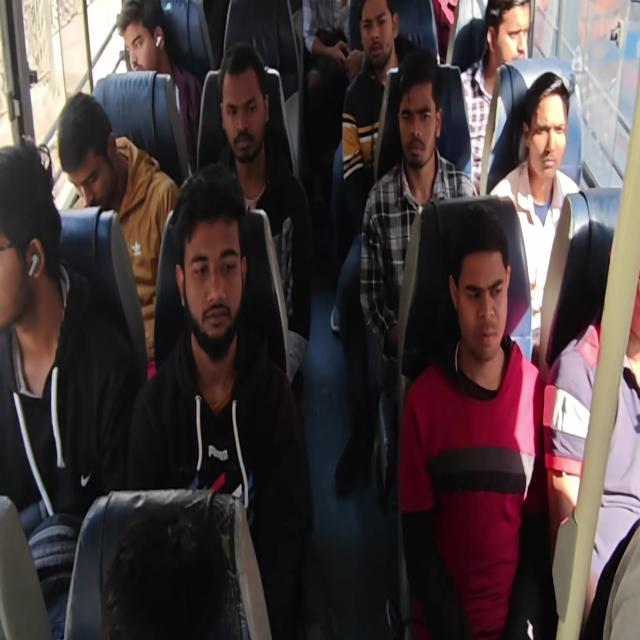person: (1, 1, 638, 638), (127, 163, 314, 637), (0, 140, 141, 638), (398, 205, 547, 638), (359, 48, 479, 395), (543, 241, 639, 638), (57, 91, 181, 378), (214, 41, 313, 388), (330, 0, 417, 332), (489, 70, 580, 364), (115, 0, 202, 175), (340, 2, 418, 190), (459, 0, 532, 192), (301, 1, 352, 208), (389, 0, 457, 65)
